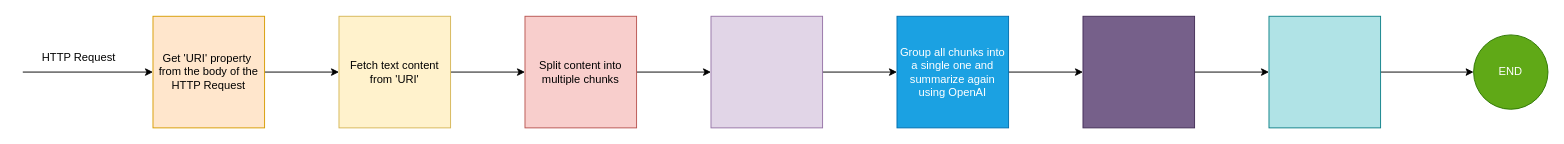
The diagram is 1564 pixels wide and 144 high, and some of its shapes have lost their labels. The box of each missing label's shape, as (x1, y1, x2, y2) in pixels:
Create tweet: (1082, 15, 1195, 128)
Return 200 OK with link to the created tweet: (1268, 15, 1381, 128)
Summarize each chunk using OpenAI: (710, 15, 823, 128)
